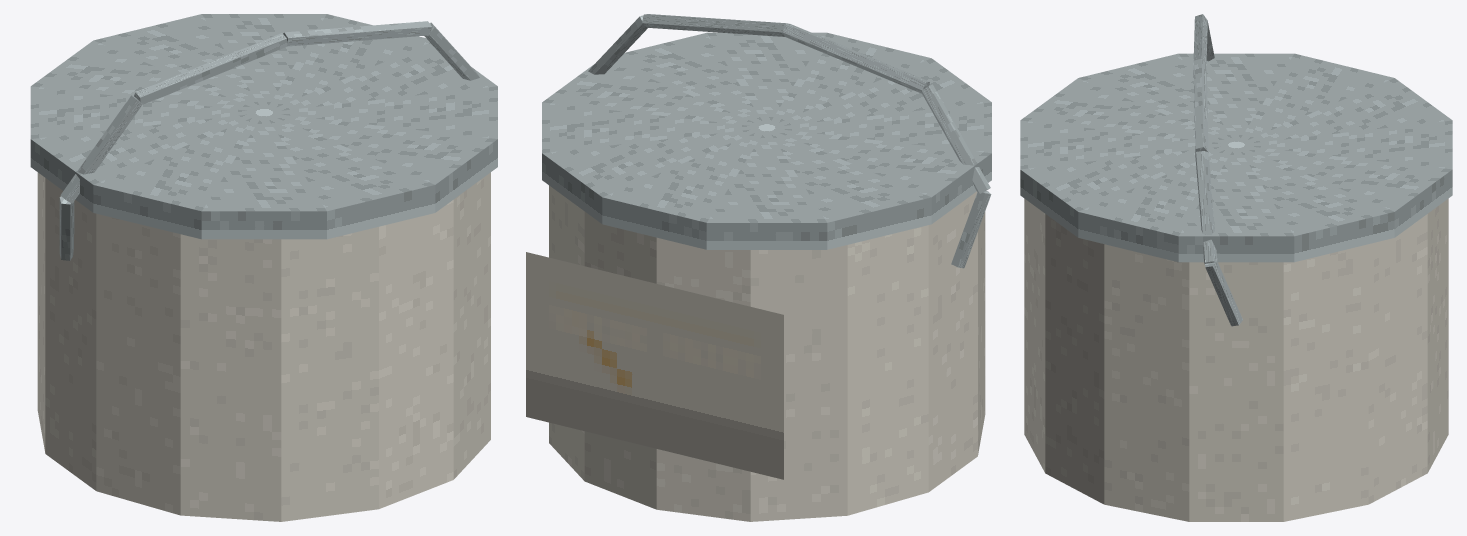
File: paint_white.glb
3 renders of one model, left to right at view 1: azimuth 30°, elevation 25°; view 2: azimuth 150°, elevation 25°; view 3: azimuth 270°, elevation 25°, orthographic. The views are drawn at different scales.
Parts seen in each view (by area): view 1: block_body, block_paint bucket lid, block_wire carry bail 2, block_wire carry bail 3, block_wire carry bail 1, block_wire carry bail 4, block_wire carry bail 0; view 2: block_body, block_paint bucket lid, block_paint label, block_wire carry bail 2, block_wire carry bail 3, block_wire carry bail 1, block_wire carry bail 0, block_wire carry bail 4; view 3: block_body, block_paint bucket lid, block_wire carry bail 4, block_wire carry bail 3, block_wire carry bail 5, block_wire carry bail 2.
Boxes of the visible parts, bbox=[...] form: block_body: bbox=[37, 172, 490, 521]; block_paint bucket lid: bbox=[30, 14, 497, 239]; block_wire carry bail 2: bbox=[134, 33, 287, 104]; block_wire carry bail 3: bbox=[283, 21, 431, 46]; block_wire carry bail 1: bbox=[60, 95, 142, 203]; block_wire carry bail 4: bbox=[424, 22, 479, 80]; block_wire carry bail 0: bbox=[59, 196, 74, 260]; block_body: bbox=[549, 185, 985, 521]; block_paint bucket lid: bbox=[542, 32, 991, 249]; block_paint label: bbox=[526, 252, 783, 479]; block_wire carry bail 2: bbox=[782, 23, 929, 93]; block_wire carry bail 3: bbox=[642, 14, 788, 36]; block_wire carry bail 1: bbox=[921, 84, 990, 193]; block_wire carry bail 0: bbox=[951, 191, 991, 268]; block_wire carry bail 4: bbox=[588, 15, 647, 74]; block_body: bbox=[1024, 198, 1448, 521]; block_paint bucket lid: bbox=[1020, 53, 1452, 262]; block_wire carry bail 4: bbox=[1195, 151, 1217, 264]; block_wire carry bail 3: bbox=[1193, 58, 1208, 152]; block_wire carry bail 5: bbox=[1205, 260, 1242, 326]; block_wire carry bail 2: bbox=[1193, 14, 1207, 63].
Size of the model in its own units: 0.2967 by 0.2663 by 0.276.
2 materials, 2 textured.
